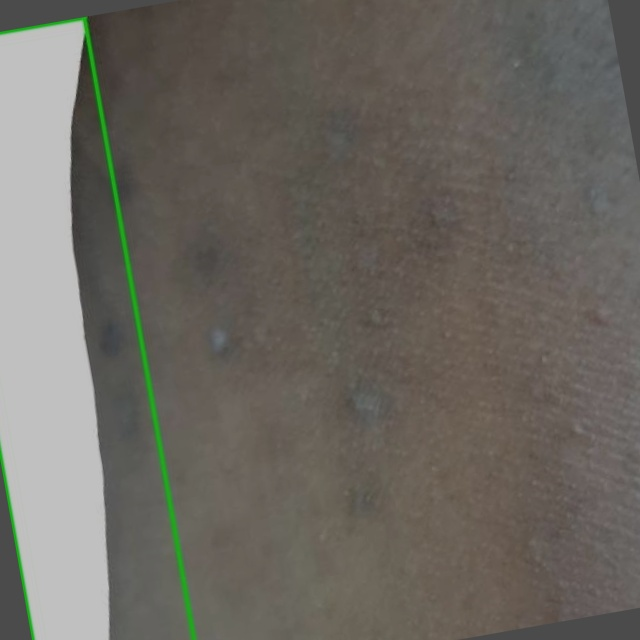Scabies: (0, 17, 194, 639)
